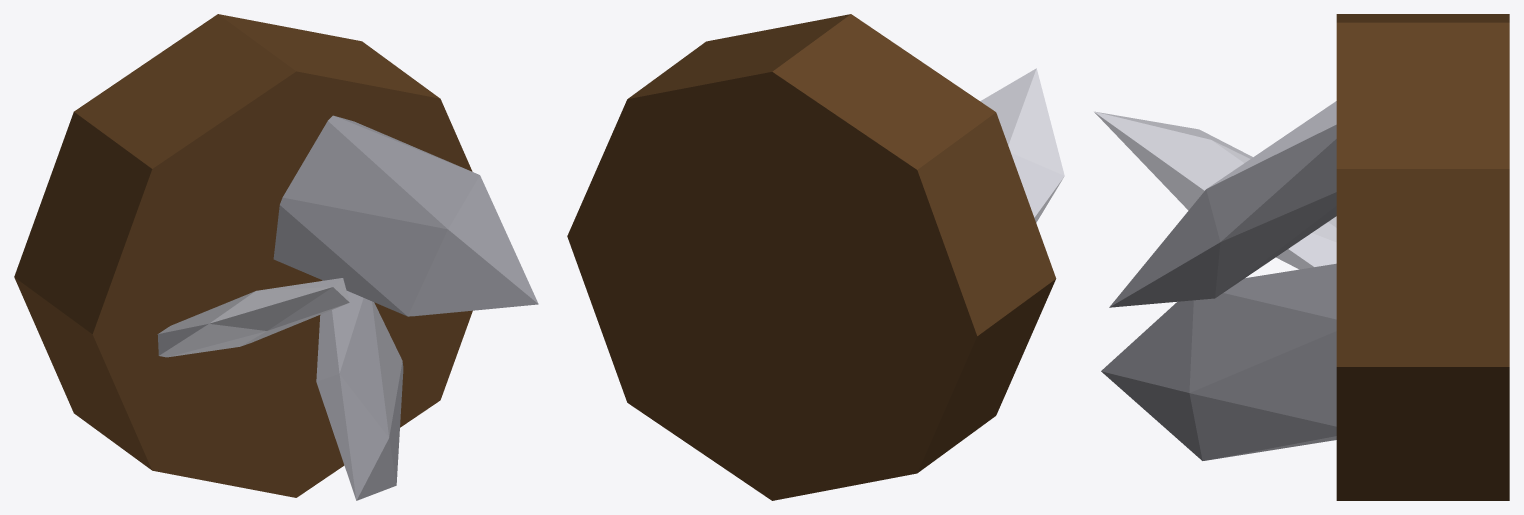
Rendered from 1_seedling.obj.
3 views of the same model, side by side, from view 1: azimuth 30°, elevation 25°; view 2: azimuth 150°, elevation 25°; view 3: azimuth 270°, elevation 25° (orthographic). The views are drawn at different scales.
Parts seen in each view (by area): view 1: kwuarm_1_seedling; view 2: kwuarm_1_seedling; view 3: kwuarm_1_seedling.
Part boxes in pixels (x1,y1,x2,y2): kwuarm_1_seedling: [14, 14, 538, 500]; kwuarm_1_seedling: [567, 14, 1064, 500]; kwuarm_1_seedling: [1094, 14, 1509, 500].
Bounding box in the file's own units: 0.12 × 0.12 × 0.0963.
